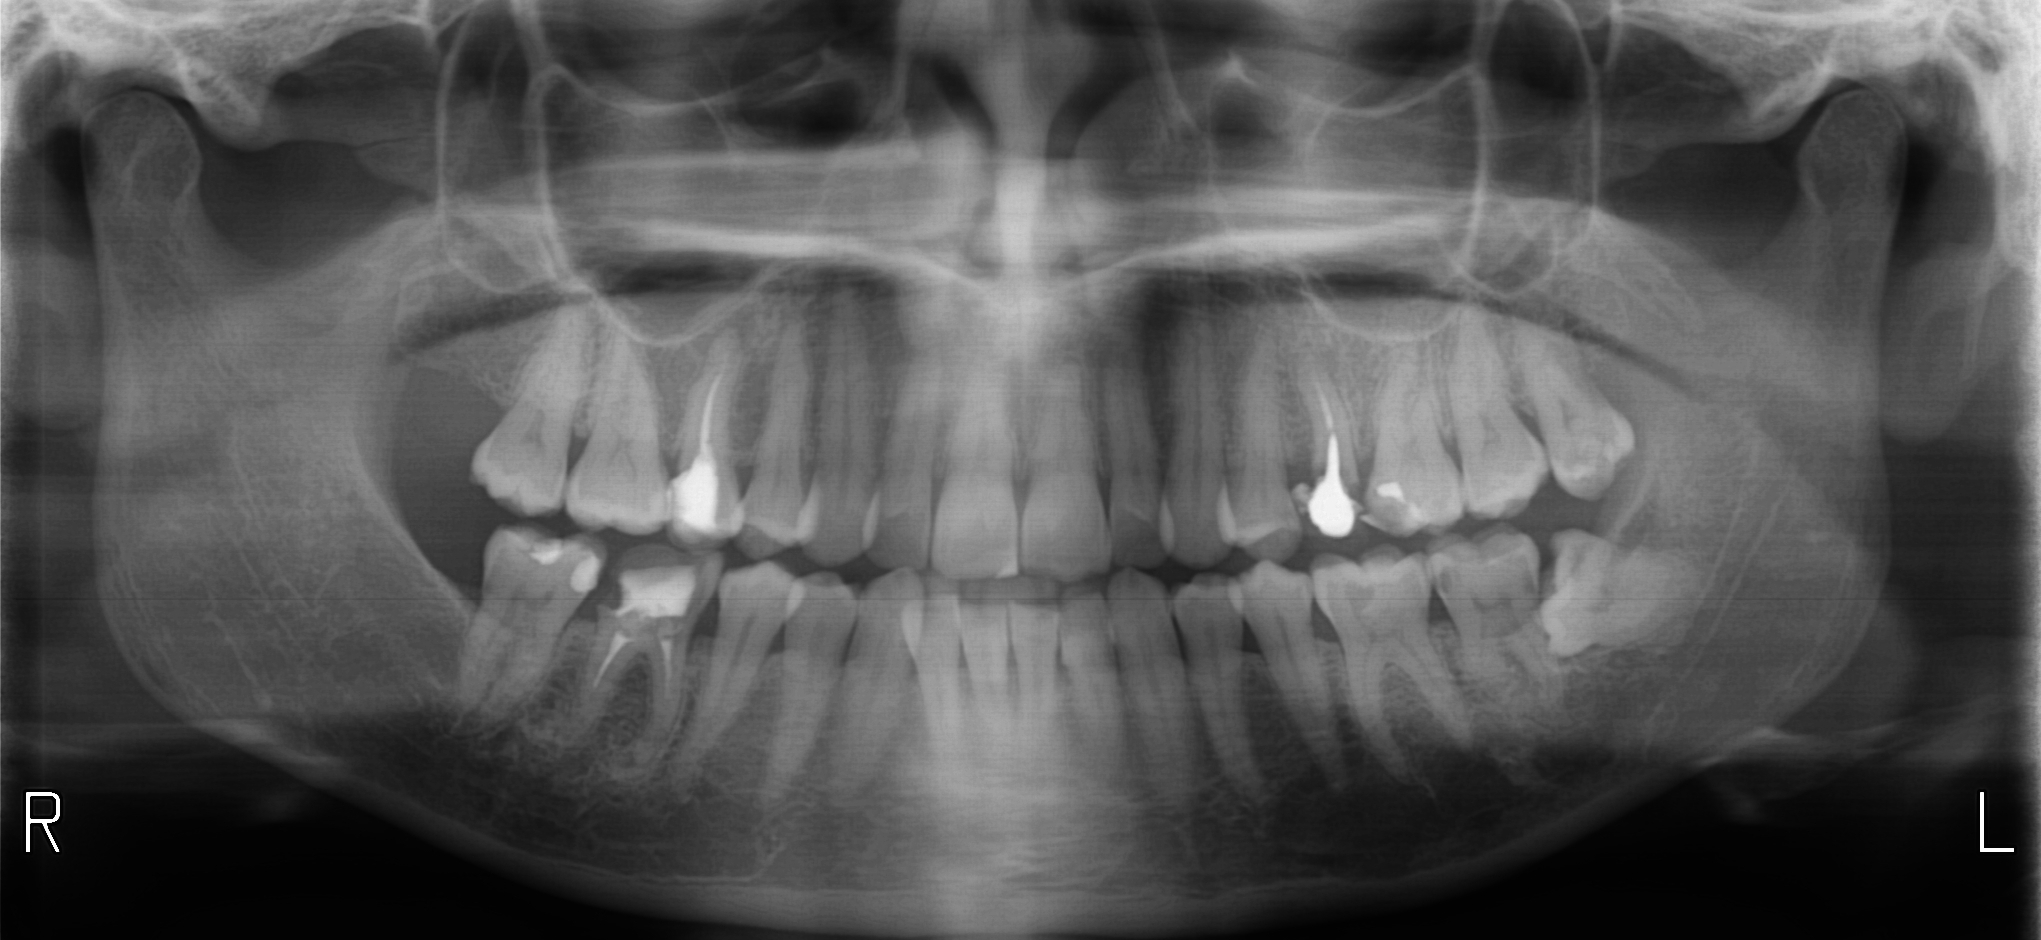cavity: (596, 568, 620, 607), (847, 624, 858, 659), (1440, 569, 1450, 588), (1526, 570, 1532, 588)
